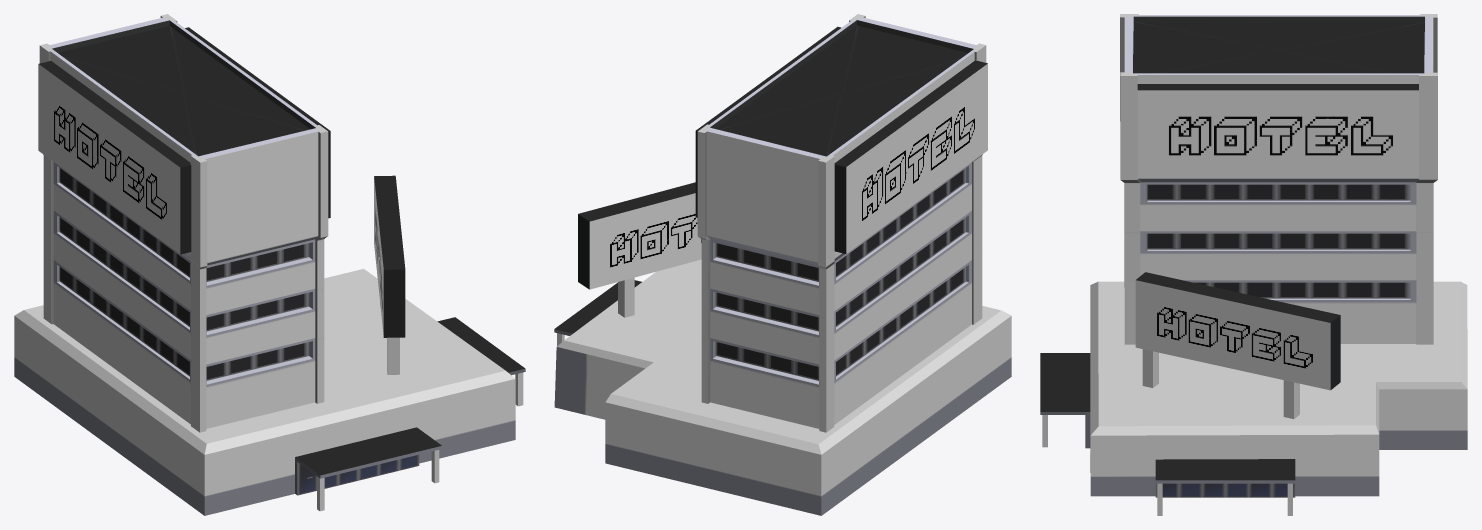
Rendered from Hotel Small.fbx.
3 views of the same model, side by side, from view 1: azimuth 30°, elevation 25°; view 2: azimuth 150°, elevation 25°; view 3: azimuth 270°, elevation 25° (orthographic).
Visible parts, largest first — view 1: Hotel Small; view 2: Hotel Small; view 3: Hotel Small.
Boxes of the visible parts, x1,y1,x2,y2 form: Hotel Small: (14,14,525,515); Hotel Small: (554,14,1011,515); Hotel Small: (1040,14,1467,515).
Bounding box in the file's own units: 1099 × 1007 × 1158.
